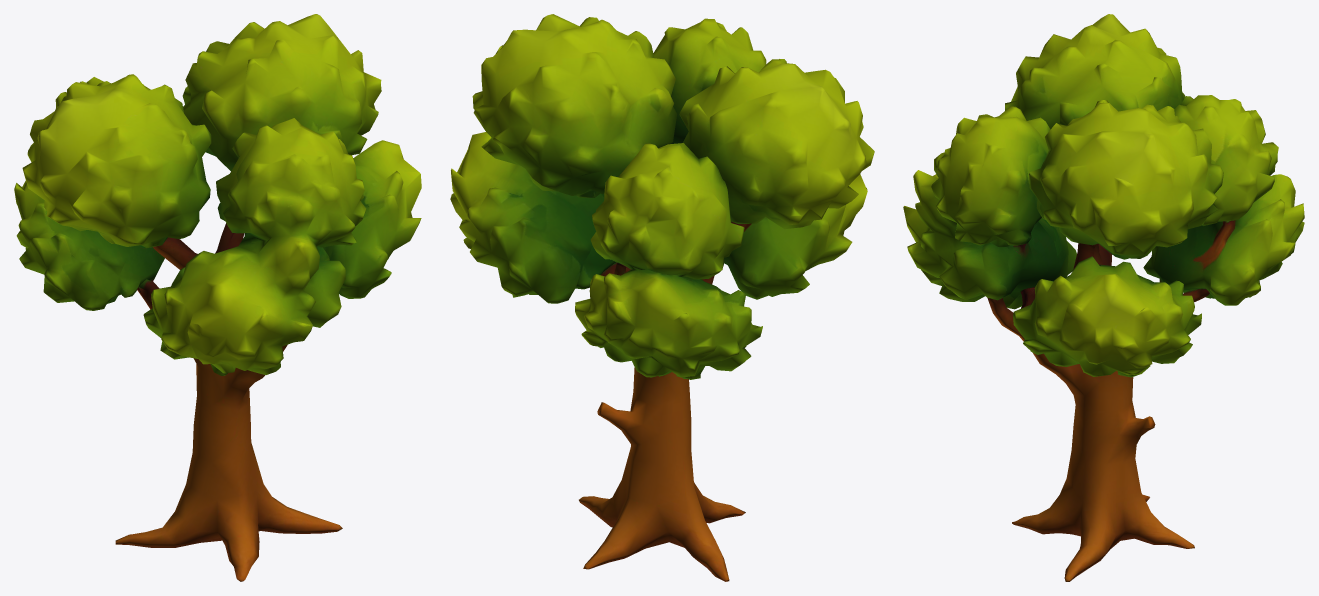
The model's file is tree_glow.glb.
3 views of the same model, side by side, from view 1: azimuth 30°, elevation 25°; view 2: azimuth 150°, elevation 25°; view 3: azimuth 270°, elevation 25° (orthographic). The views are drawn at different scales.
Visible parts, largest first — view 1: tripo_node_ac94400b-4ee5-46f2-9dec-0df11678917f; view 2: tripo_node_ac94400b-4ee5-46f2-9dec-0df11678917f; view 3: tripo_node_ac94400b-4ee5-46f2-9dec-0df11678917f.
Part boxes in pixels (x1,y1,x2,y2): tripo_node_ac94400b-4ee5-46f2-9dec-0df11678917f: (14,14,421,581); tripo_node_ac94400b-4ee5-46f2-9dec-0df11678917f: (450,14,874,581); tripo_node_ac94400b-4ee5-46f2-9dec-0df11678917f: (903,14,1304,581).
Bounding box in the file's own units: 0.8145 × 0.998 × 0.7871.
1 material, 1 textured.
